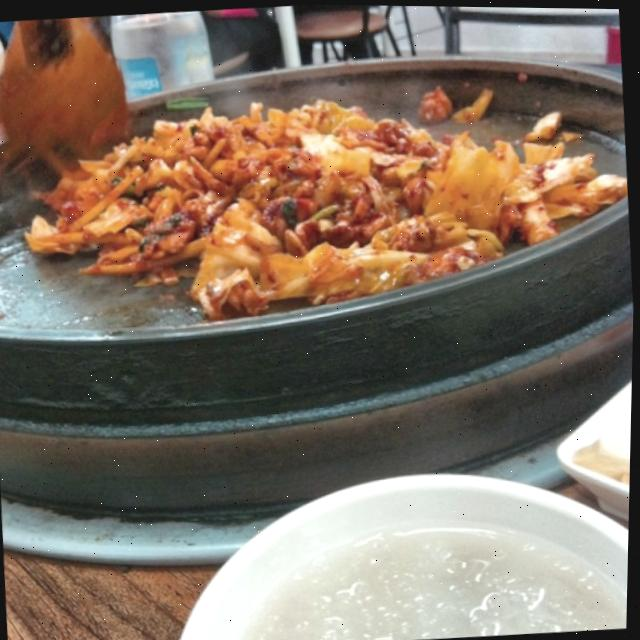鸡肉料理 含炸鸡: (1, 34, 635, 340)
